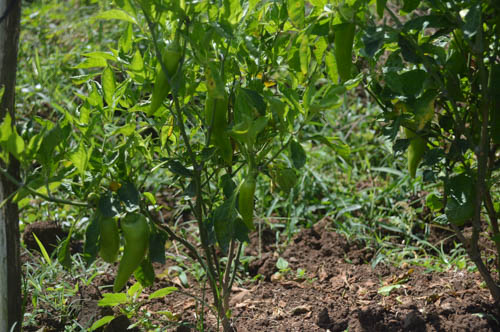ChiliPepper: (116, 215, 147, 296), (152, 46, 180, 116), (205, 95, 232, 163), (234, 181, 261, 235), (335, 16, 355, 87), (95, 219, 122, 269), (404, 122, 424, 184)
